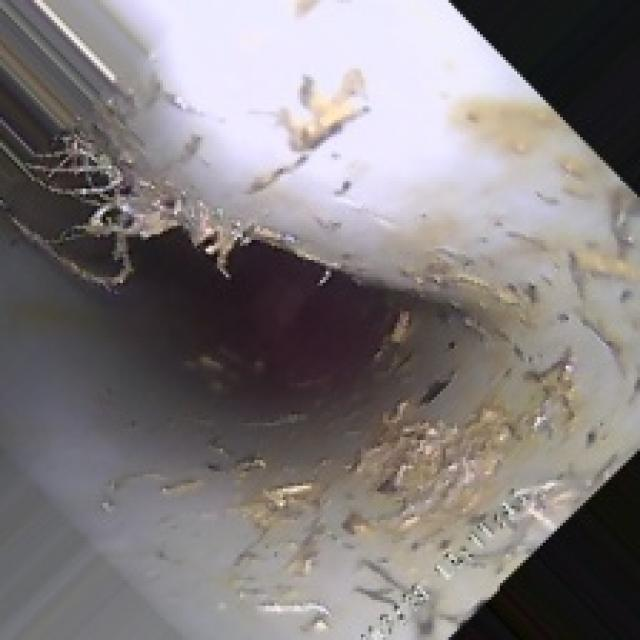shape_deformation: (63, 103, 534, 437)
